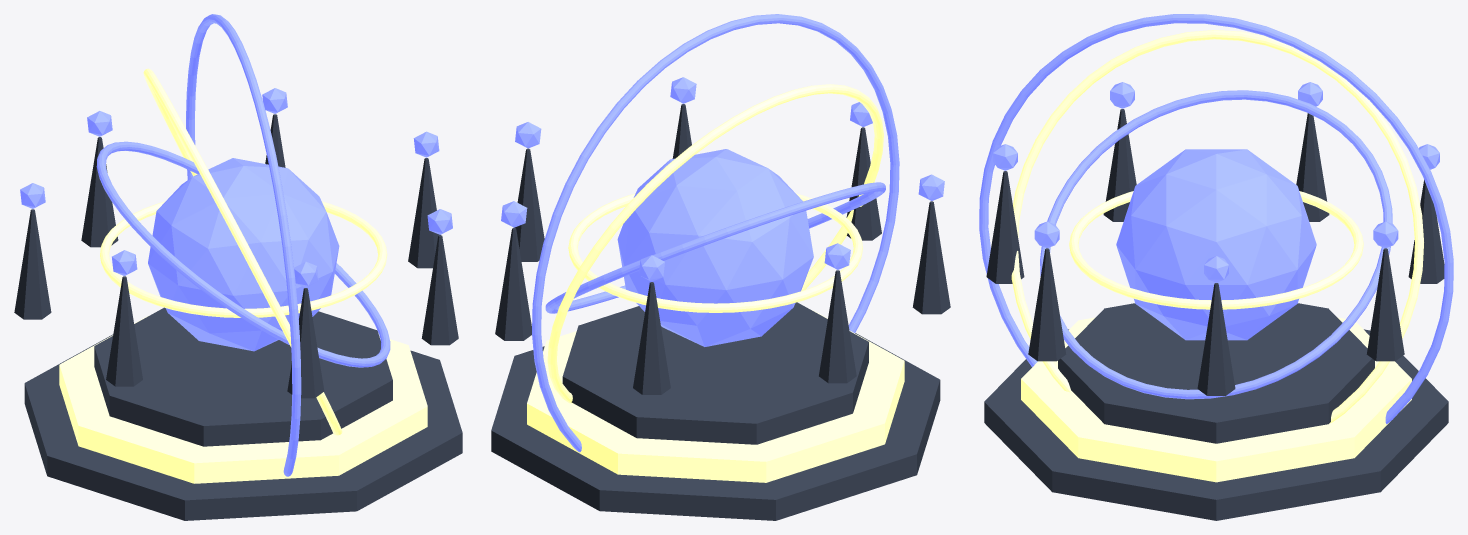
The model's file is gpu-blender-v16.glb.
3 views of the same model, side by side, from view 1: azimuth 30°, elevation 25°; view 2: azimuth 150°, elevation 25°; view 3: azimuth 270°, elevation 25° (orthographic). The views are drawn at different scales.
Visible parts, largest first — view 1: Cylinder.002, SovereignCore_agent-budget-sentinel, Cylinder, Cylinder.001, Torus.003, Torus.001, Torus, Torus.002, Cone.003, Cone.006, Cone.004, Cone (+8 smaller); view 2: Cylinder.002, SovereignCore_agent-budget-sentinel, Cylinder, Cylinder.001, Torus.003, Torus.002, Torus.001, Torus, Cone.003, Cone.004, Cone.002, Cone.001 (+9 smaller); view 3: SovereignCore_agent-budget-sentinel, Cylinder.002, Cylinder, Cylinder.001, Torus.003, Torus.002, Torus.001, Torus, Cone.001, Cone.006, Cone, Cone.005 (+5 smaller).
Boxes of the visible parts, x1=… form: Cylinder.002: x1=94, y1=307, x2=392, y2=446; SovereignCore_agent-budget-sentinel: x1=148, y1=158, x2=339, y2=351; Cylinder: x1=24, y1=334, x2=462, y2=520; Cylinder.001: x1=59, y1=315, x2=427, y2=483; Torus.003: x1=186, y1=14, x2=301, y2=476; Torus.001: x1=96, y1=141, x2=390, y2=367; Torus: x1=100, y1=201, x2=387, y2=317; Torus.002: x1=143, y1=68, x2=342, y2=435; Cone.003: x1=14, y1=209, x2=51, y2=319; Cone.006: x1=421, y1=235, x2=458, y2=345; Cone.004: x1=106, y1=276, x2=142, y2=386; Cone: x1=408, y1=158, x2=440, y2=268; Cylinder.002: x1=562, y1=302, x2=868, y2=444; SovereignCore_agent-budget-sentinel: x1=617, y1=149, x2=813, y2=346; Cylinder: x1=491, y1=333, x2=940, y2=520; Cylinder.001: x1=527, y1=310, x2=904, y2=482; Torus.003: x1=532, y1=14, x2=899, y2=452; Torus.002: x1=547, y1=84, x2=883, y2=403; Torus.001: x1=545, y1=182, x2=885, y2=313; Torus: x1=568, y1=193, x2=862, y2=312; Cone.003: x1=819, y1=270, x2=856, y2=383; Cone.004: x1=912, y1=201, x2=950, y2=314; Cone.002: x1=633, y1=282, x2=670, y2=394; Cone.001: x1=495, y1=228, x2=531, y2=340; SovereignCore_agent-budget-sentinel: x1=1116, y1=149, x2=1316, y2=340; Cylinder.002: x1=1058, y1=303, x2=1374, y2=443; Cylinder: x1=984, y1=329, x2=1448, y2=520; Cylinder.001: x1=1021, y1=317, x2=1411, y2=482; Torus.003: x1=979, y1=14, x2=1453, y2=424; Torus.002: x1=1011, y1=30, x2=1423, y2=422; Torus.001: x1=1040, y1=90, x2=1392, y2=399; Torus: x1=1069, y1=191, x2=1363, y2=309; Cone.001: x1=1366, y1=248, x2=1404, y2=361; Cone.006: x1=1028, y1=248, x2=1066, y2=361; Cone: x1=1197, y1=283, x2=1235, y2=395; Cone.005: x1=986, y1=171, x2=1024, y2=283.
Bounding box in the file's own units: 4.41 × 4.7 × 4.49.
